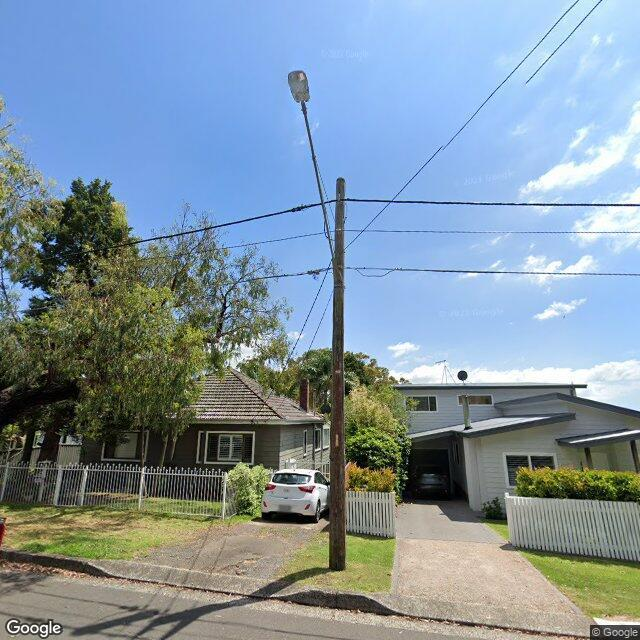streetlight: (289, 69, 343, 284)
timber-pole: (328, 178, 346, 572)
